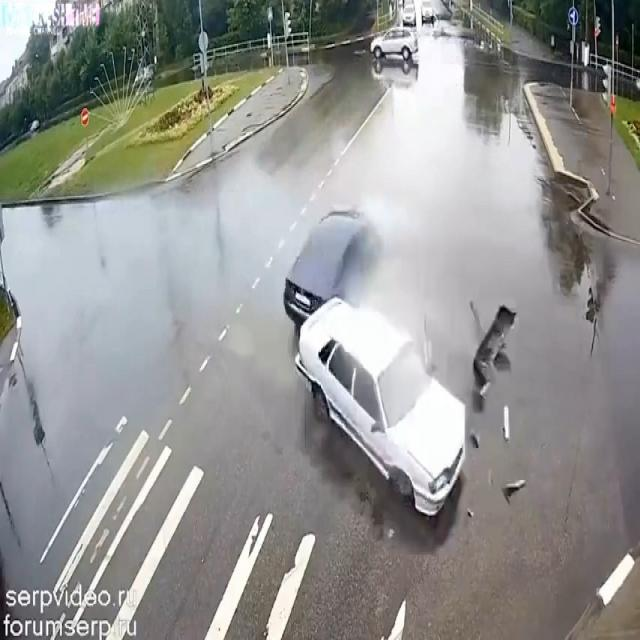Accident: (267, 161, 477, 544)
